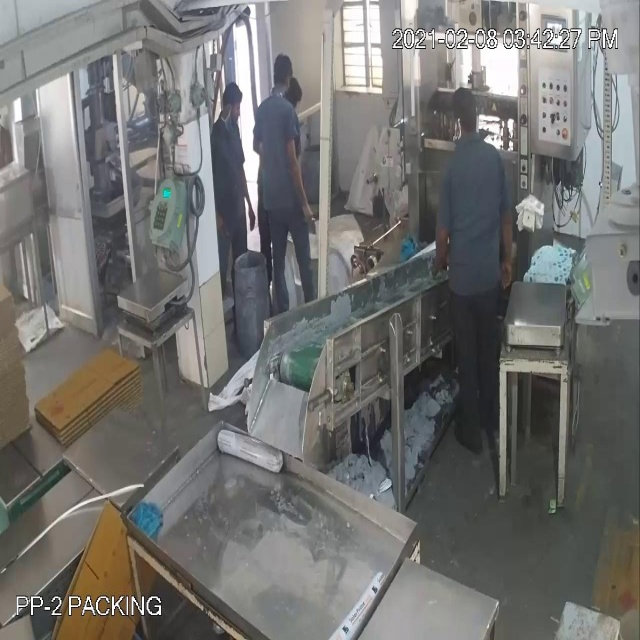Sin_guantes: (286, 121, 321, 238), (498, 195, 518, 290), (425, 208, 448, 276)
